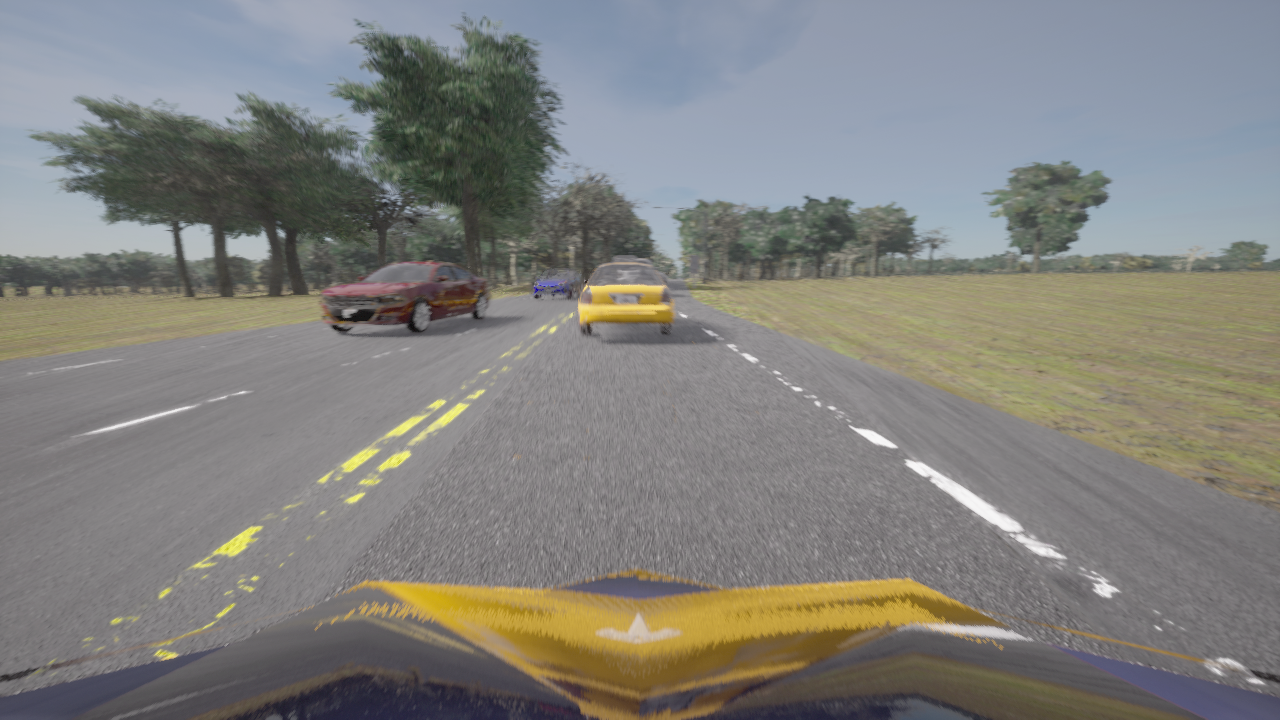cyclist: (0, 569, 1279, 719), (321, 261, 490, 333), (579, 257, 673, 335), (531, 268, 583, 299), (638, 259, 658, 271), (657, 272, 665, 279), (662, 274, 667, 285)
